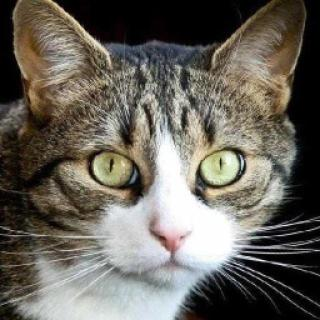cat: (10, 0, 308, 288)
nose: (145, 200, 196, 256)
